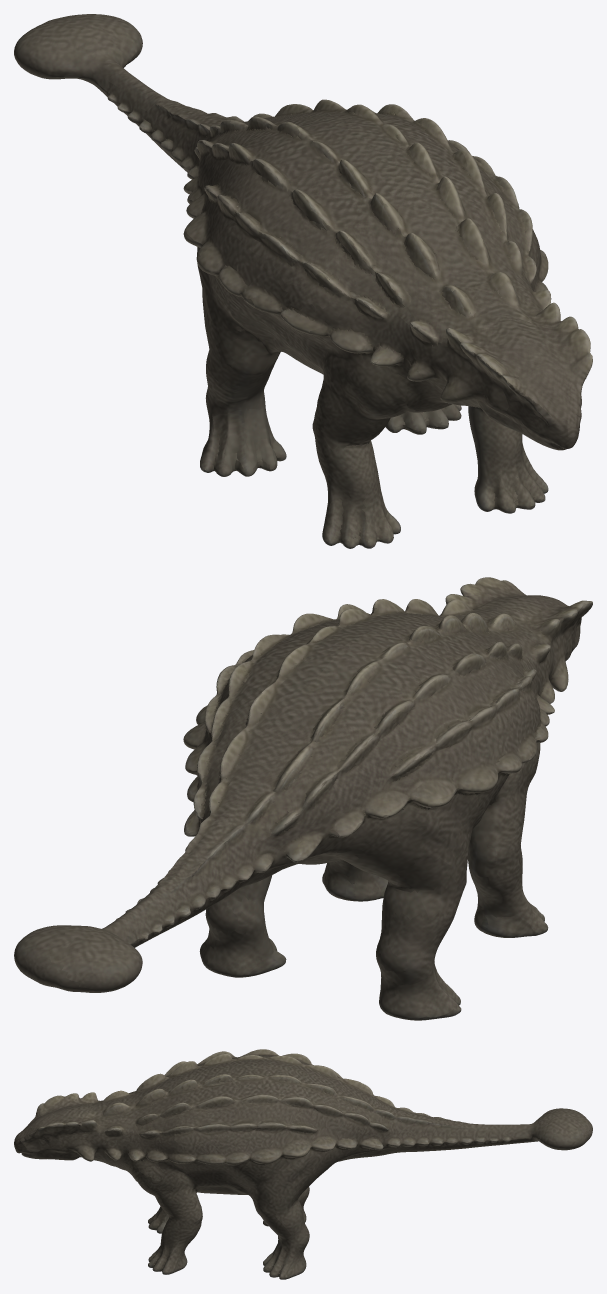
File: Ankylosaurus.glb
3 views of the same model, one above another, from view 1: azimuth 30°, elevation 25°; view 2: azimuth 150°, elevation 25°; view 3: azimuth 270°, elevation 25° (orthographic). The views are drawn at different scales.
Bounding box in the file's own units: 0.62 × 0.6589 × 1.9.
Materials: 1 (1 with a texture image).
